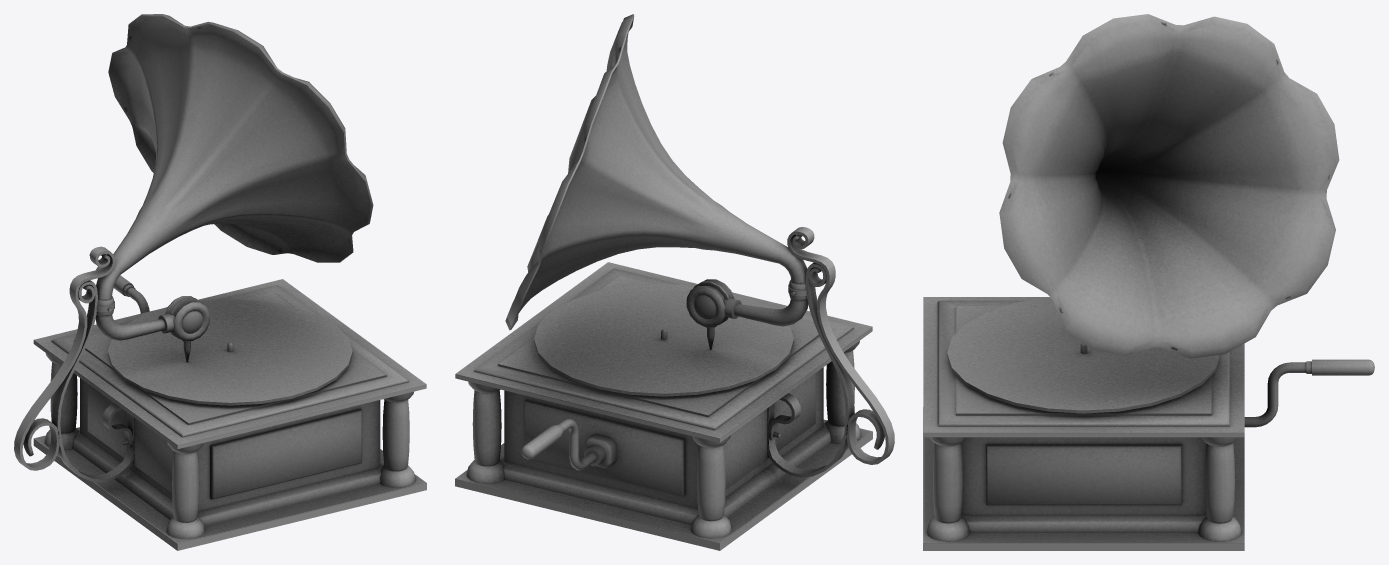
The model's file is Gramophone.obj.
3 views of the same model, side by side, from view 1: azimuth 30°, elevation 25°; view 2: azimuth 150°, elevation 25°; view 3: azimuth 270°, elevation 25° (orthographic). The views are drawn at different scales.
Visible parts, largest first — view 1: Plane.213_Plane.301, Plane.214_Plane.302; view 2: Plane.213_Plane.301, Plane.214_Plane.302; view 3: Plane.213_Plane.301, Plane.214_Plane.302.
Boxes of the visible parts, bbox=[...] form: Plane.213_Plane.301: bbox=[14, 14, 426, 550]; Plane.214_Plane.302: bbox=[108, 299, 352, 405]; Plane.213_Plane.301: bbox=[455, 14, 894, 550]; Plane.214_Plane.302: bbox=[534, 284, 793, 396]; Plane.213_Plane.301: bbox=[923, 14, 1374, 550]; Plane.214_Plane.302: bbox=[947, 297, 1220, 413].
Size of the model in its own units: 0.0567 by 0.0679 by 0.0587.
